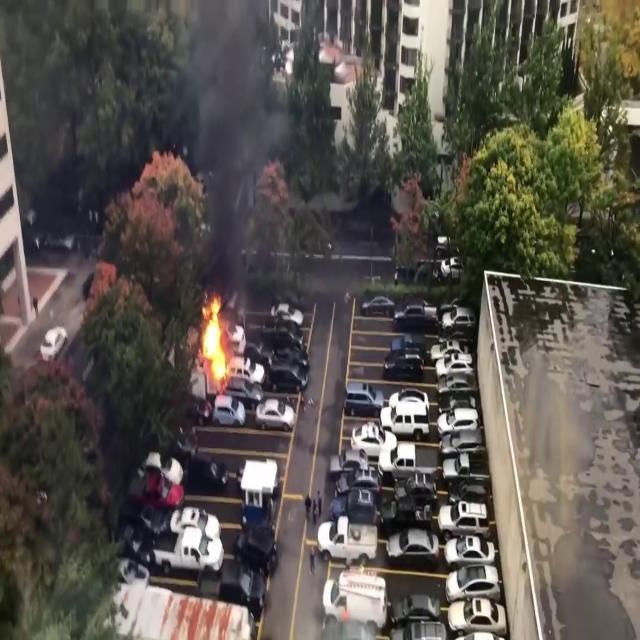Fire: (196, 290, 234, 385)
Smoke: (174, 0, 299, 297)
